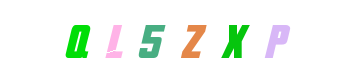5: (113, 0, 193, 80)
L: (110, 0, 190, 80)
P: (169, 0, 249, 80)
Q: (107, 0, 187, 80)
X: (153, 0, 233, 80)
Z: (135, 0, 215, 80)
